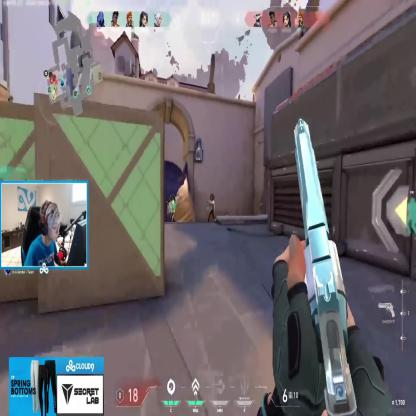enemy: (167, 193, 176, 223), (207, 193, 216, 223)
enemy_head: (169, 193, 174, 202), (210, 195, 214, 202)
